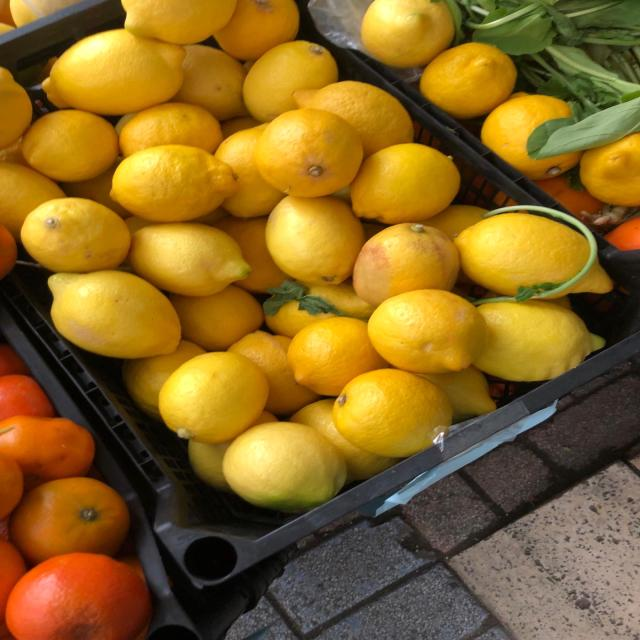lemon: (37, 265, 188, 362), (209, 417, 352, 512), (150, 350, 274, 446), (101, 143, 242, 225), (365, 287, 492, 378), (250, 107, 370, 200), (15, 192, 138, 275)
